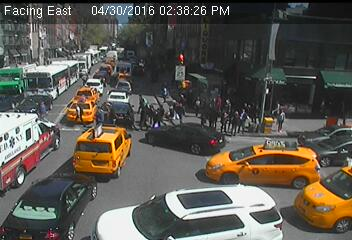neg: (61, 74, 72, 88), (99, 44, 109, 57), (77, 58, 86, 70)
pos: (70, 102, 91, 129), (271, 107, 291, 134)
